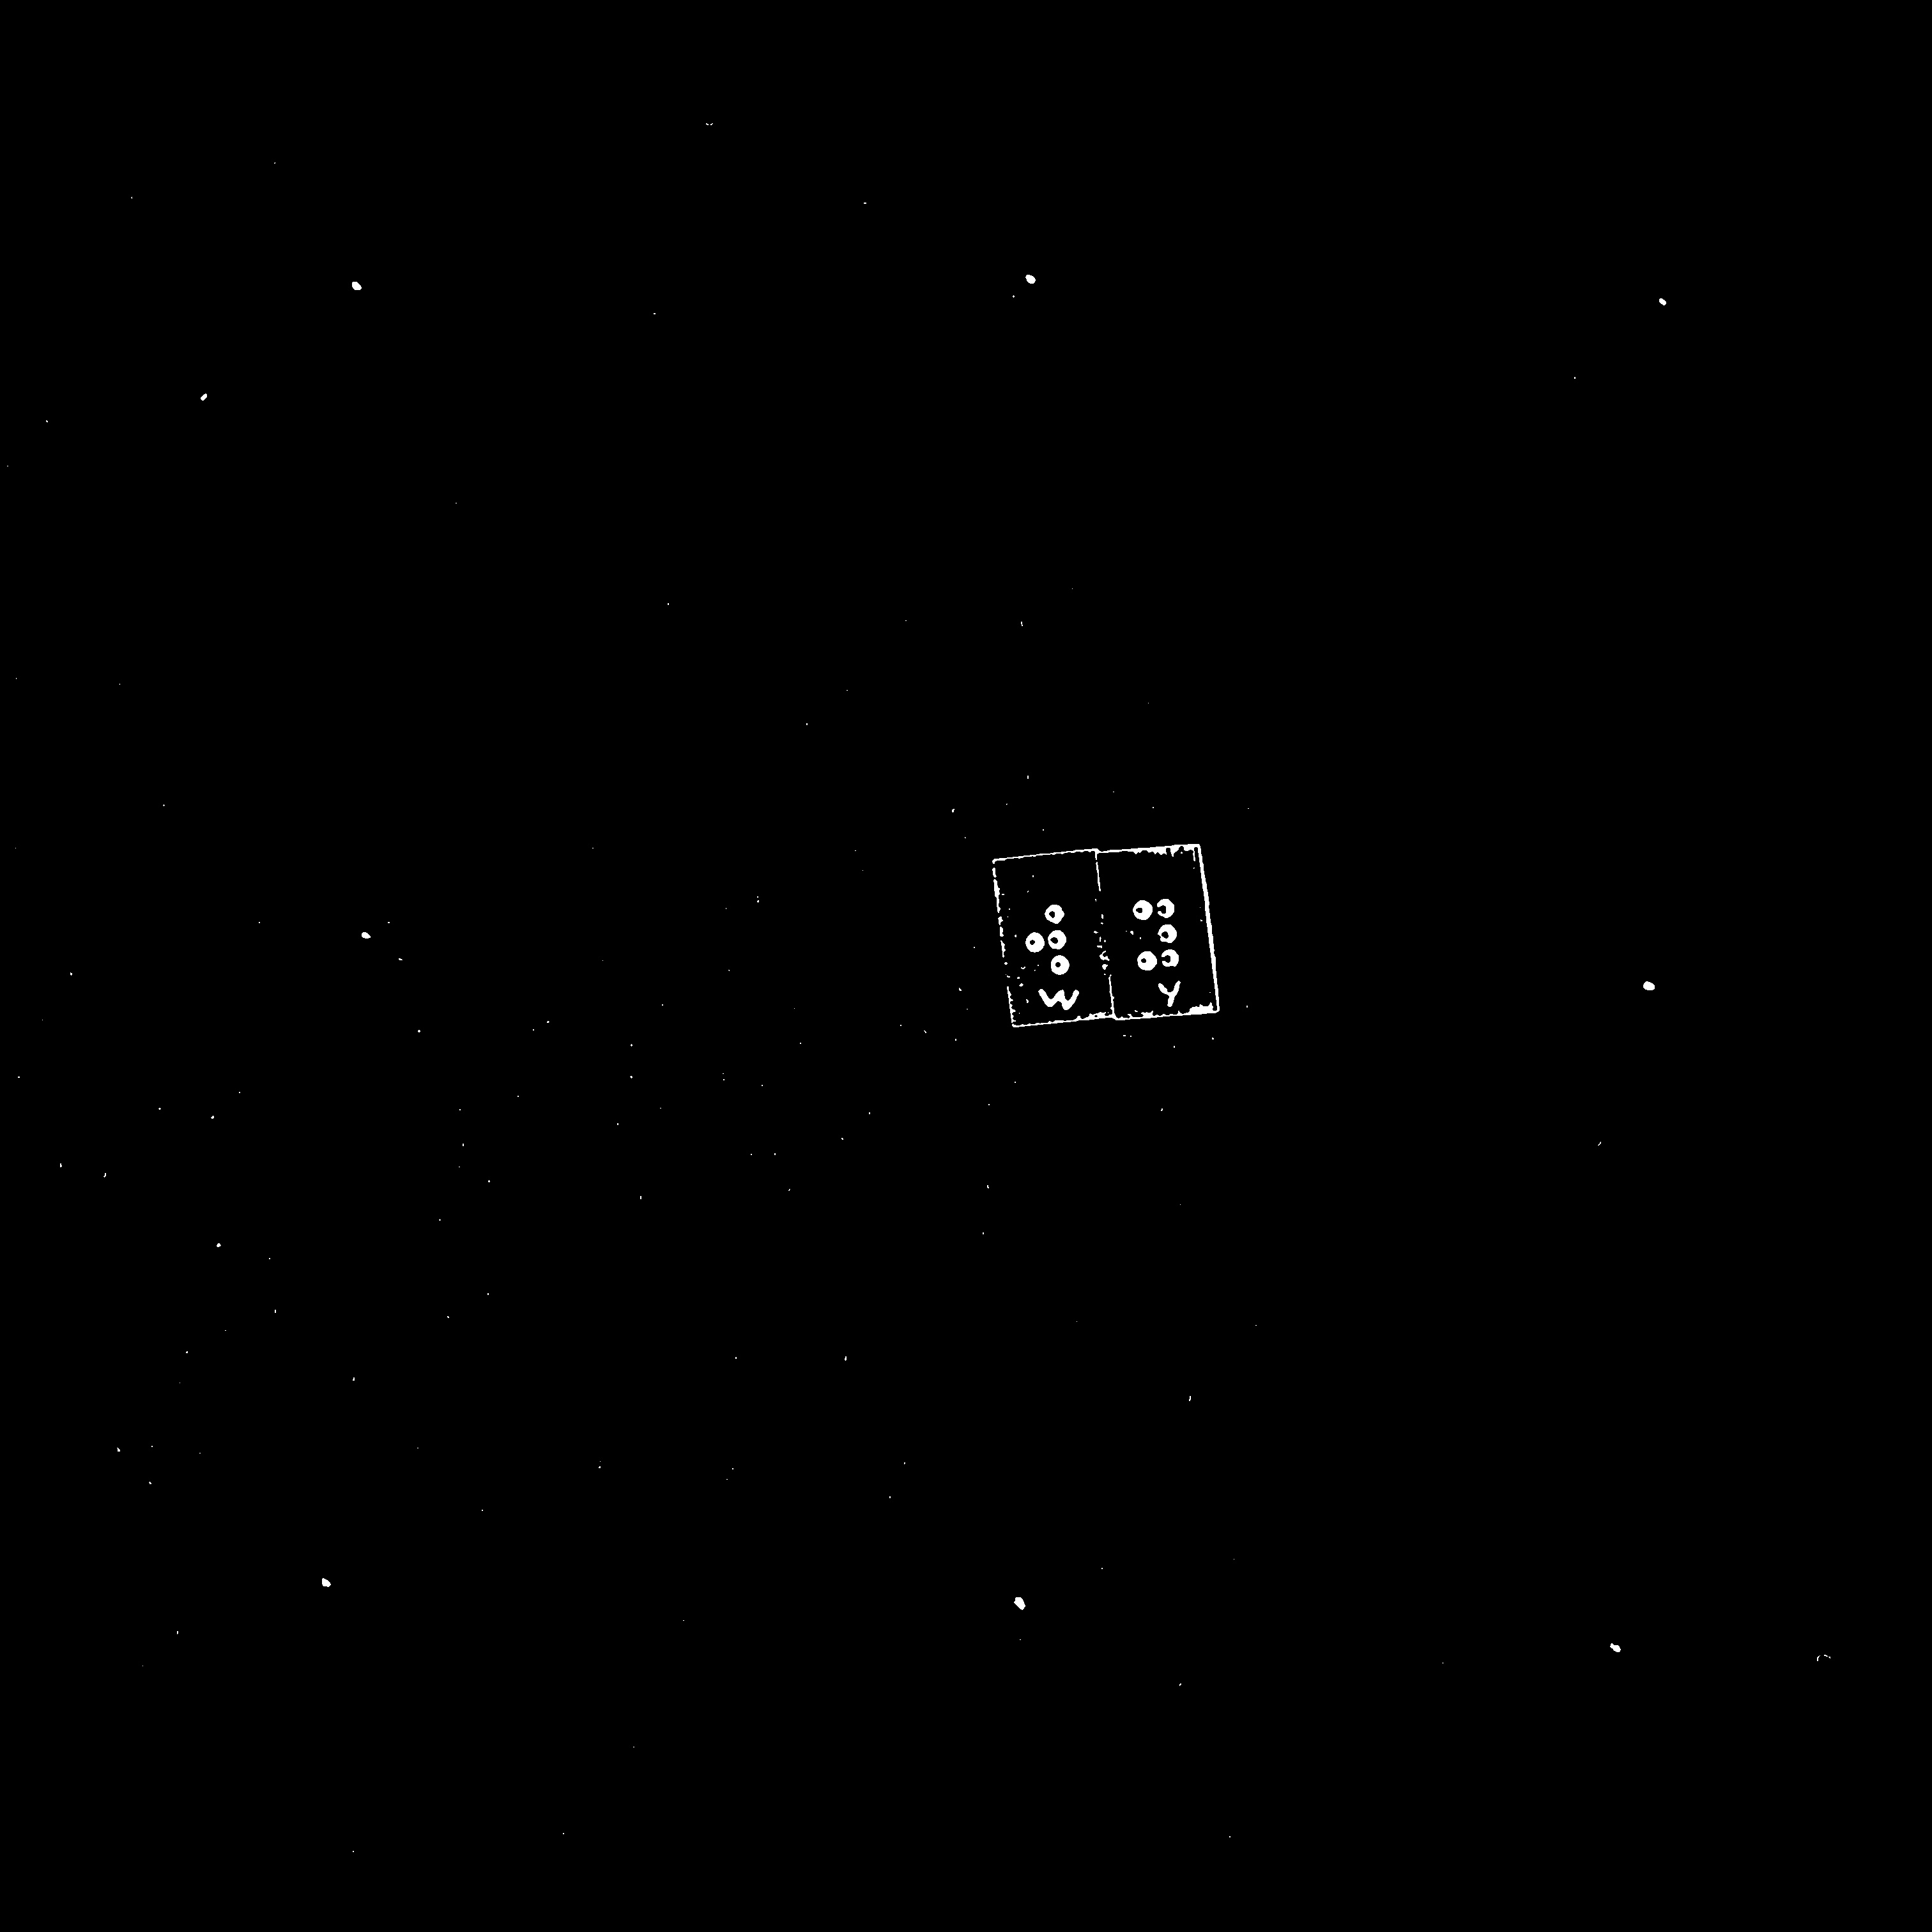w: (1016, 887, 1084, 985)
y: (1128, 883, 1190, 978)
